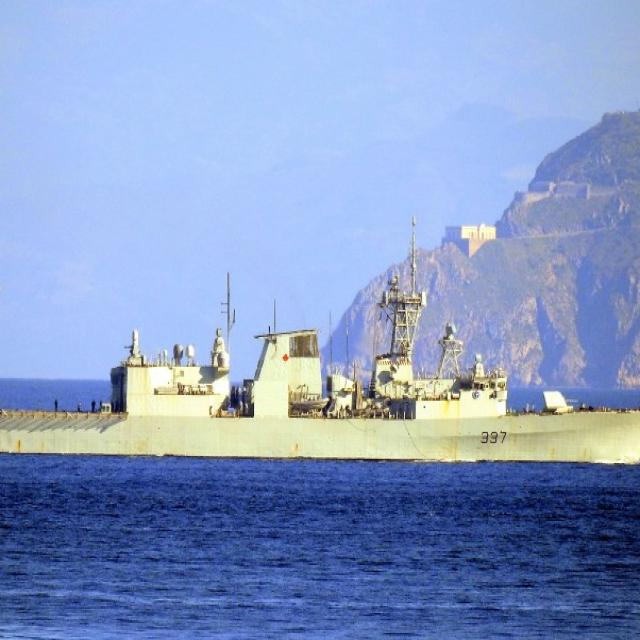Fragata: (1, 208, 640, 474)
